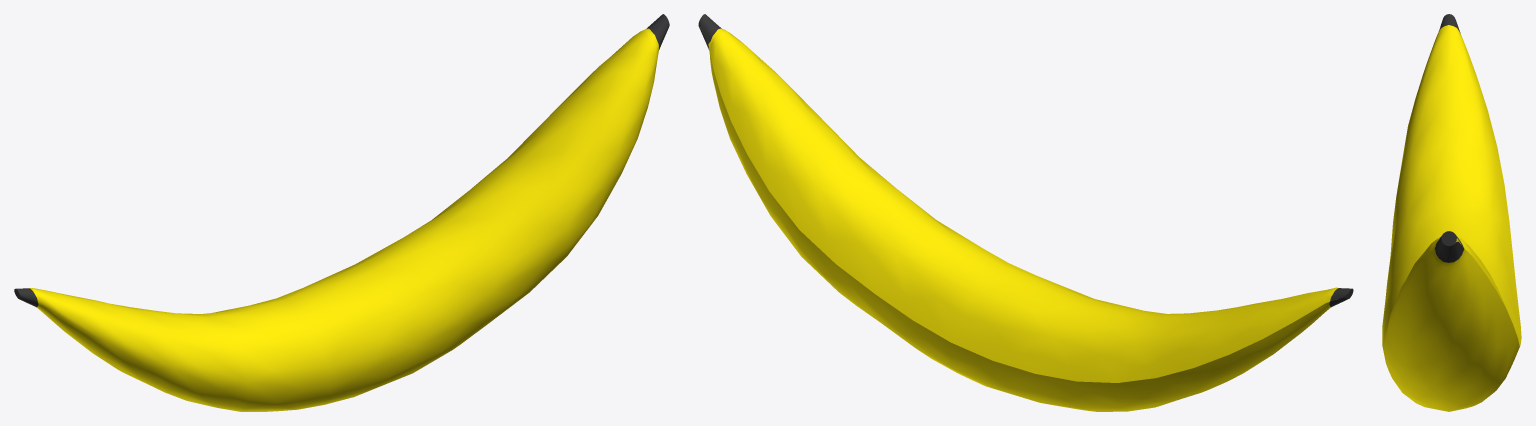
Rendered from Banana.fbx.
3 views of the same model, side by side, from view 1: azimuth 30°, elevation 25°; view 2: azimuth 150°, elevation 25°; view 3: azimuth 270°, elevation 25° (orthographic). The views are drawn at different scales.
Parts seen in each view (by area): view 1: Banana; view 2: Banana; view 3: Banana.
Boxes of the visible parts, x1,y1,x2,y2 form: Banana: [14, 14, 669, 411]; Banana: [698, 14, 1353, 411]; Banana: [1382, 14, 1521, 411].
Size of the model in its own units: 1.63 by 0.2773 by 0.7153.
